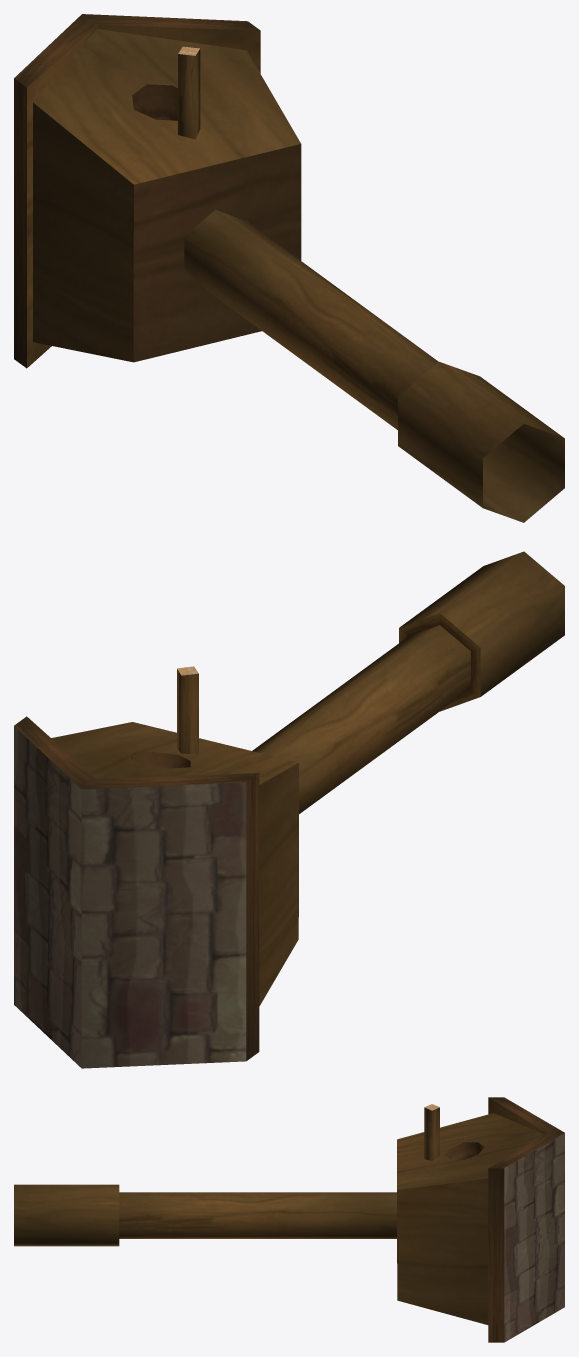
Rendered from BirdHouse.fbx.
The picture shows the model from 3 angles, top to bottom: view 1: azimuth 30°, elevation 25°; view 2: azimuth 150°, elevation 25°; view 3: azimuth 270°, elevation 25°; orthographic projection. The views are drawn at different scales.
Visible parts, largest first — view 1: BirdHouse; view 2: BirdHouse; view 3: BirdHouse.
Part boxes in pixels (box(x1,y1,x2,y2)): BirdHouse: box(14, 14, 564, 522); BirdHouse: box(14, 551, 564, 1068); BirdHouse: box(14, 1097, 564, 1342).
Bounding box in the file's own units: 16.6 × 21.84 × 54.55.
